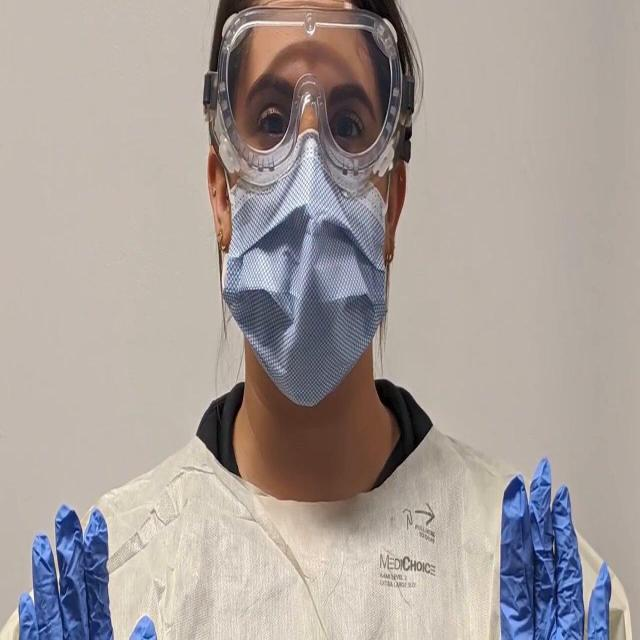Gloves: (495, 454, 615, 640), (16, 496, 160, 640)
Goggles: (208, 0, 402, 196)
Mask: (227, 149, 390, 407)
